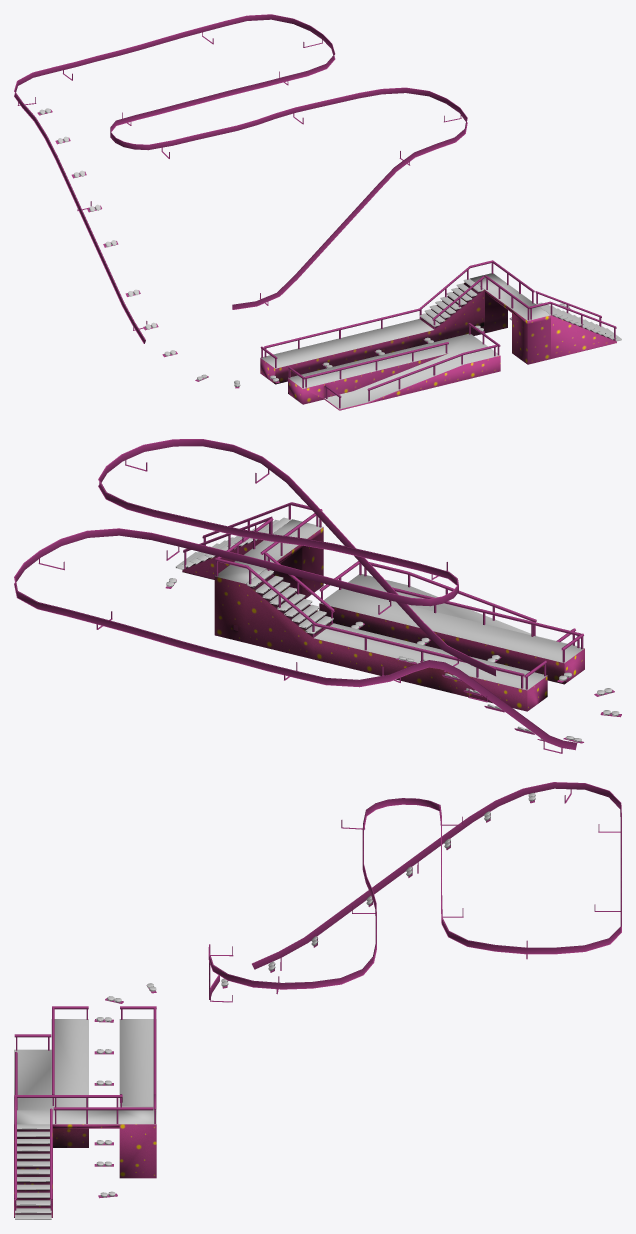
Rendered from station.fbx.
3 renders of one model, top to bottom at view 1: azimuth 30°, elevation 25°; view 2: azimuth 150°, elevation 25°; view 3: azimuth 270°, elevation 25°, orthographic. The views are drawn at different scales.
Visible parts, largest first — view 1: Mesh_ncl1_2, Mesh_ncl1_3, Mesh, Mesh_ncl1_1; view 2: Mesh_ncl1_2, Mesh_ncl1_3, Mesh, Mesh_ncl1_1; view 3: Mesh_ncl1_2, Mesh_ncl1_3, Mesh, Mesh_ncl1_1.
Part boxes in pixels (bbox=[...]): Mesh_ncl1_2: bbox=[260, 273, 621, 410]; Mesh_ncl1_3: bbox=[14, 14, 467, 343]; Mesh: bbox=[260, 260, 616, 408]; Mesh_ncl1_1: bbox=[37, 108, 570, 388]; Mesh_ncl1_2: bbox=[175, 517, 584, 711]; Mesh_ncl1_3: bbox=[14, 439, 577, 753]; Mesh: bbox=[183, 502, 583, 689]; Mesh_ncl1_1: bbox=[165, 578, 621, 743]; Mesh_ncl1_2: bbox=[14, 1019, 156, 1219]; Mesh_ncl1_3: bbox=[208, 782, 621, 1002]; Mesh: bbox=[14, 1006, 156, 1214]; Mesh_ncl1_1: bbox=[94, 792, 535, 1198].
Size of the model in its own units: 2050 by 915 by 2303.
